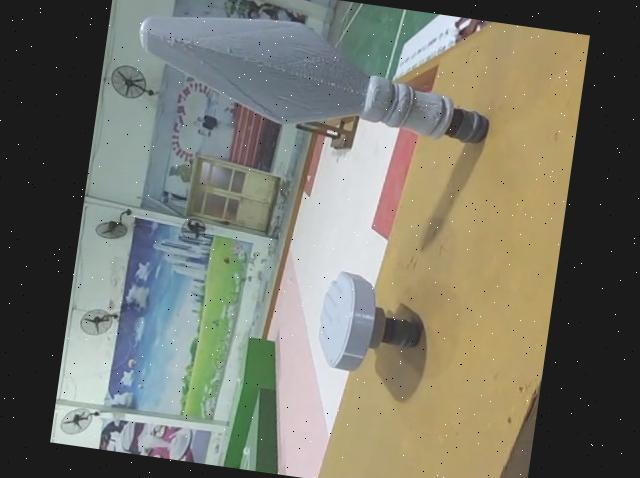Hand: (311, 269, 427, 380)
Sph: (120, 1, 504, 161)
